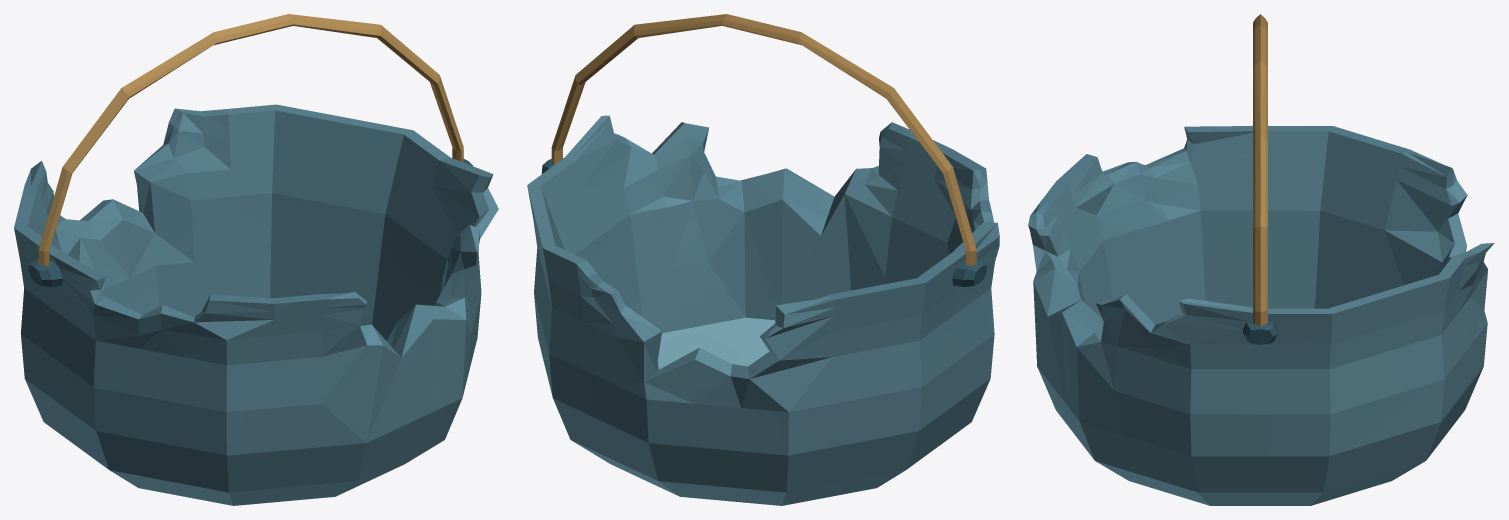
Rendered from cooking_pot_shotdamaged.obj.
The picture shows the model from 3 angles, left to right: view 1: azimuth 30°, elevation 25°; view 2: azimuth 150°, elevation 25°; view 3: azimuth 270°, elevation 25°; orthographic projection. The views are drawn at different scales.
Visible parts, largest first — view 1: cooking_pot_shotdamaged_Material, cooking_pot_shotdamaged_handle_Material; view 2: cooking_pot_shotdamaged_Material, cooking_pot_shotdamaged_handle_Material; view 3: cooking_pot_shotdamaged_Material, cooking_pot_shotdamaged_handle_Material.
Part boxes in pixels (x1,y1,x2,y2): cooking_pot_shotdamaged_Material: (14,104,498,505); cooking_pot_shotdamaged_handle_Material: (38,14,463,265); cooking_pot_shotdamaged_Material: (527,115,999,505); cooking_pot_shotdamaged_handle_Material: (551,14,976,265); cooking_pot_shotdamaged_Material: (1028,125,1494,505); cooking_pot_shotdamaged_handle_Material: (1253,14,1267,325).
Size of the model in its own units: 0.379 by 0.3436 by 0.3656.
